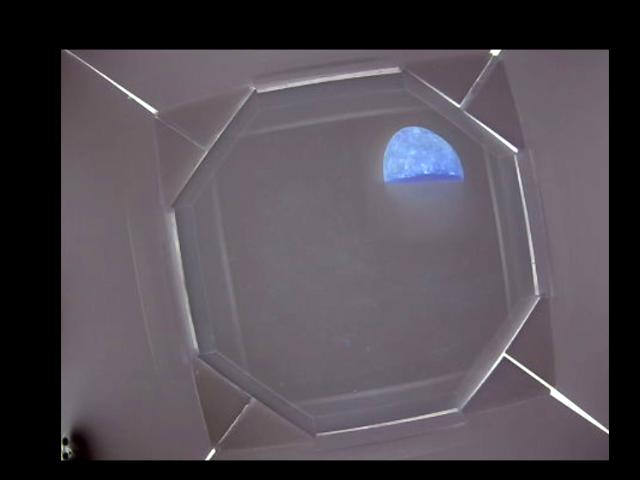Potato: (383, 126, 465, 185)
